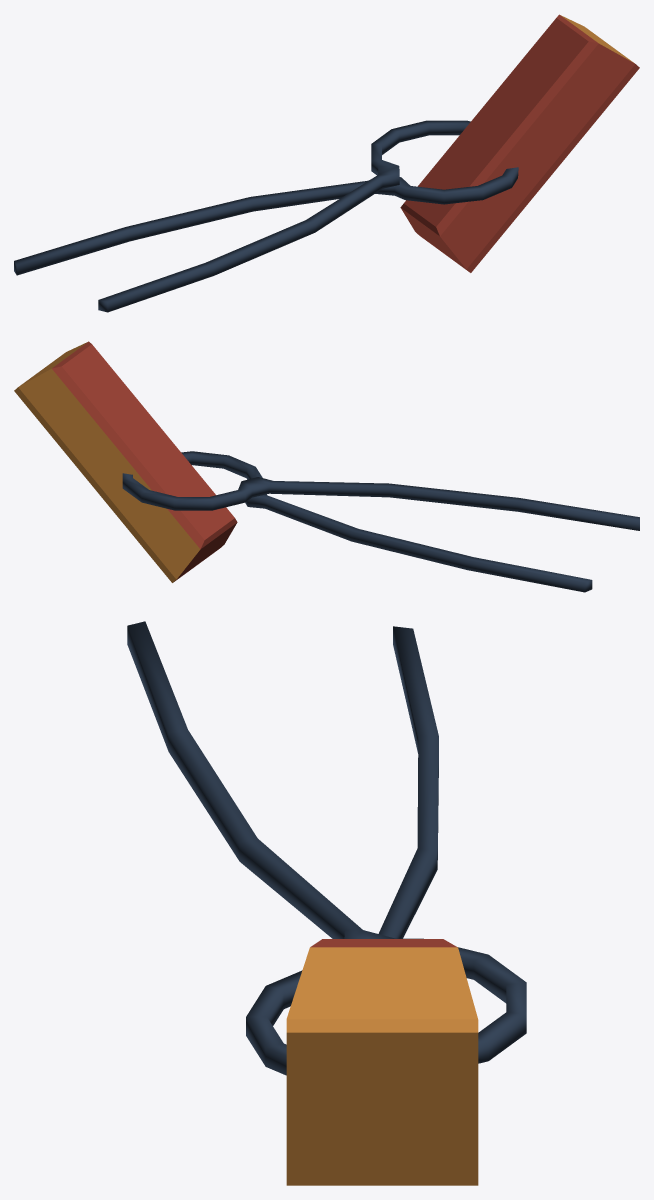
File: hotCopperfbx.fbx
3 views of the same model, one above another, from view 1: azimuth 30°, elevation 25°; view 2: azimuth 150°, elevation 25°; view 3: azimuth 270°, elevation 25° (orthographic). The views are drawn at different scales.
Visible parts, largest first — view 1: ingot, pliers; view 2: ingot, pliers; view 3: ingot, pliers.
Boxes of the visible parts, <box> form: ingot: <box>400,14,639,272</box>; pliers: <box>14,120,518,312</box>; ingot: <box>14,341,237,582</box>; pliers: <box>122,451,639,592</box>; ingot: <box>286,939,478,1185</box>; pliers: <box>127,621,526,1075</box>.
Bounding box in the file's own units: 122 × 38.05 × 37.92.
